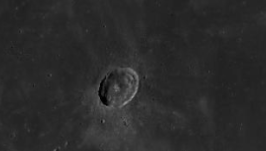crater: (62, 46, 181, 131)
